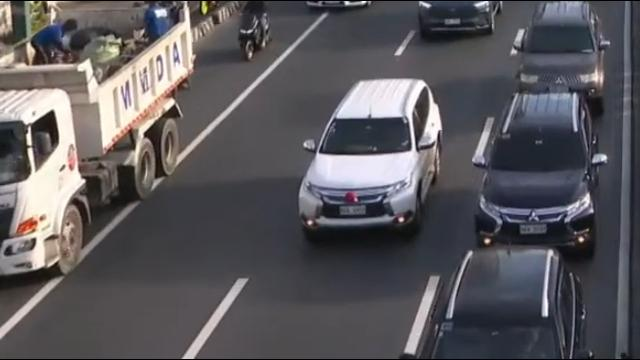car: (294, 78, 443, 236), (475, 91, 601, 242), (427, 246, 590, 360), (512, 0, 610, 97)
motorcycle: (237, 0, 272, 63)
truck: (0, 0, 195, 282)
